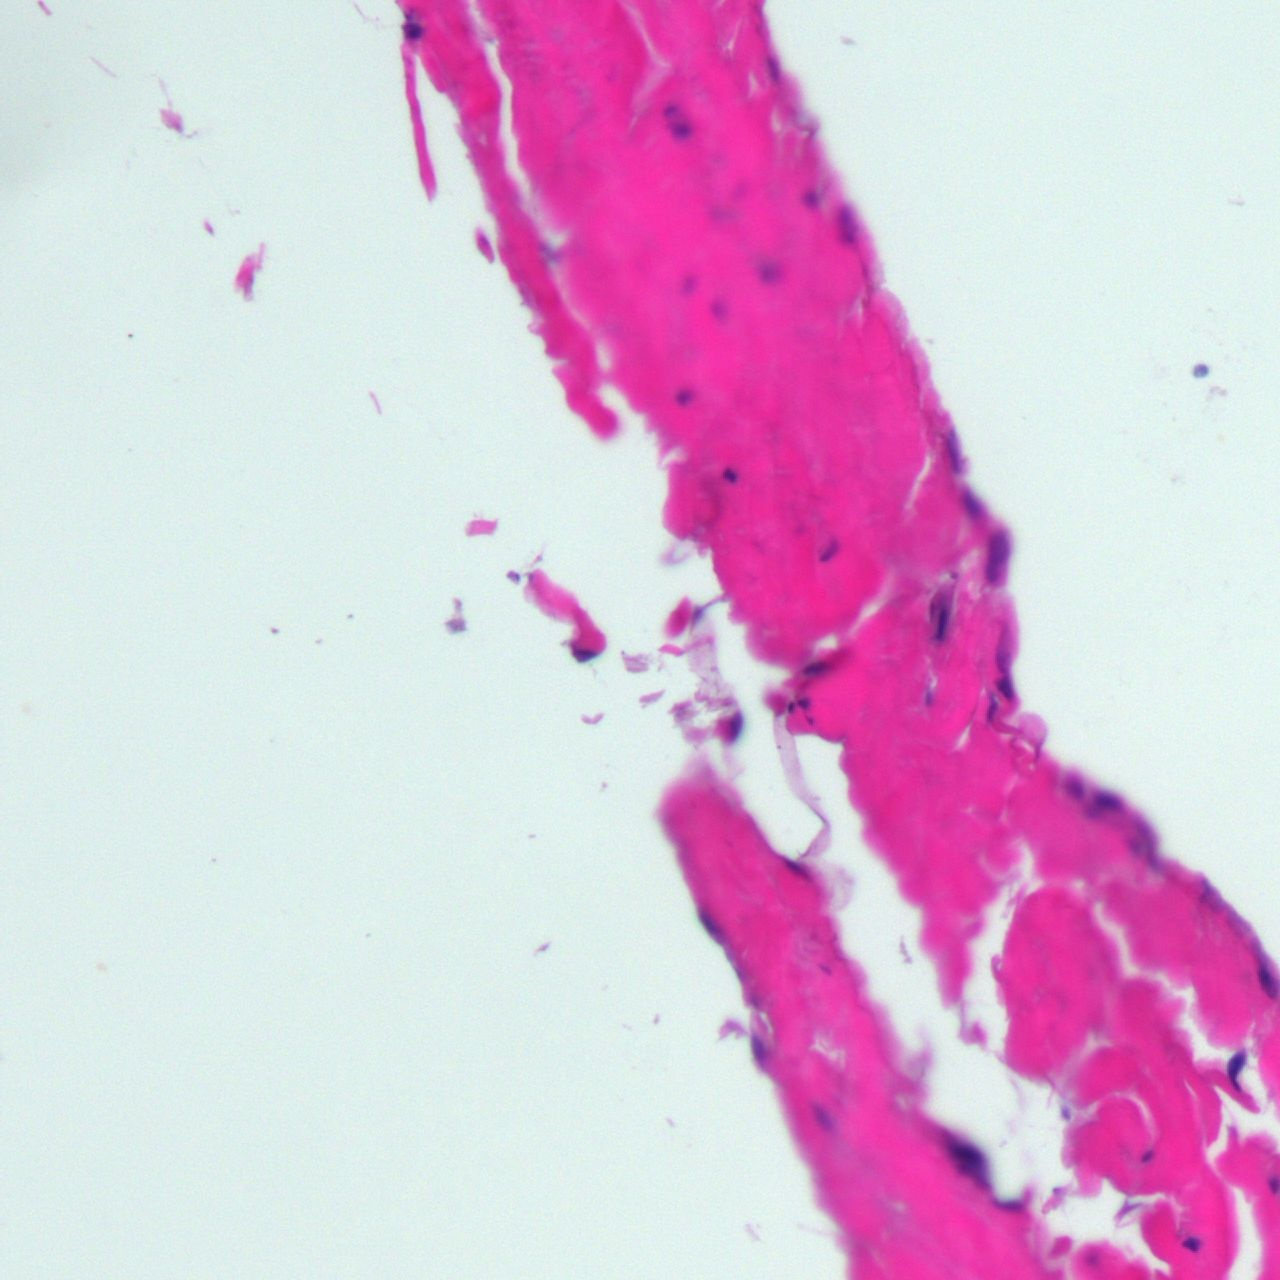nucleus-HE: (937, 1124, 1002, 1194), (924, 576, 955, 649), (983, 527, 1010, 585), (805, 1096, 840, 1139), (953, 483, 987, 522), (940, 425, 965, 474), (1090, 784, 1125, 815), (665, 103, 693, 139), (833, 202, 856, 246), (760, 52, 783, 86), (813, 537, 840, 566), (1227, 1048, 1245, 1089), (724, 708, 745, 742), (1062, 768, 1084, 799), (696, 908, 720, 938), (400, 14, 425, 40), (799, 658, 828, 679), (703, 298, 726, 324), (750, 1032, 764, 1069), (993, 678, 1015, 700), (760, 258, 779, 282), (799, 188, 821, 206), (985, 693, 998, 723), (678, 272, 694, 295), (673, 388, 692, 406), (992, 1200, 1021, 1211), (1180, 1235, 1199, 1252), (722, 467, 738, 483), (1085, 1252, 1099, 1264), (797, 696, 810, 708), (1141, 1149, 1153, 1160), (787, 701, 794, 713)
